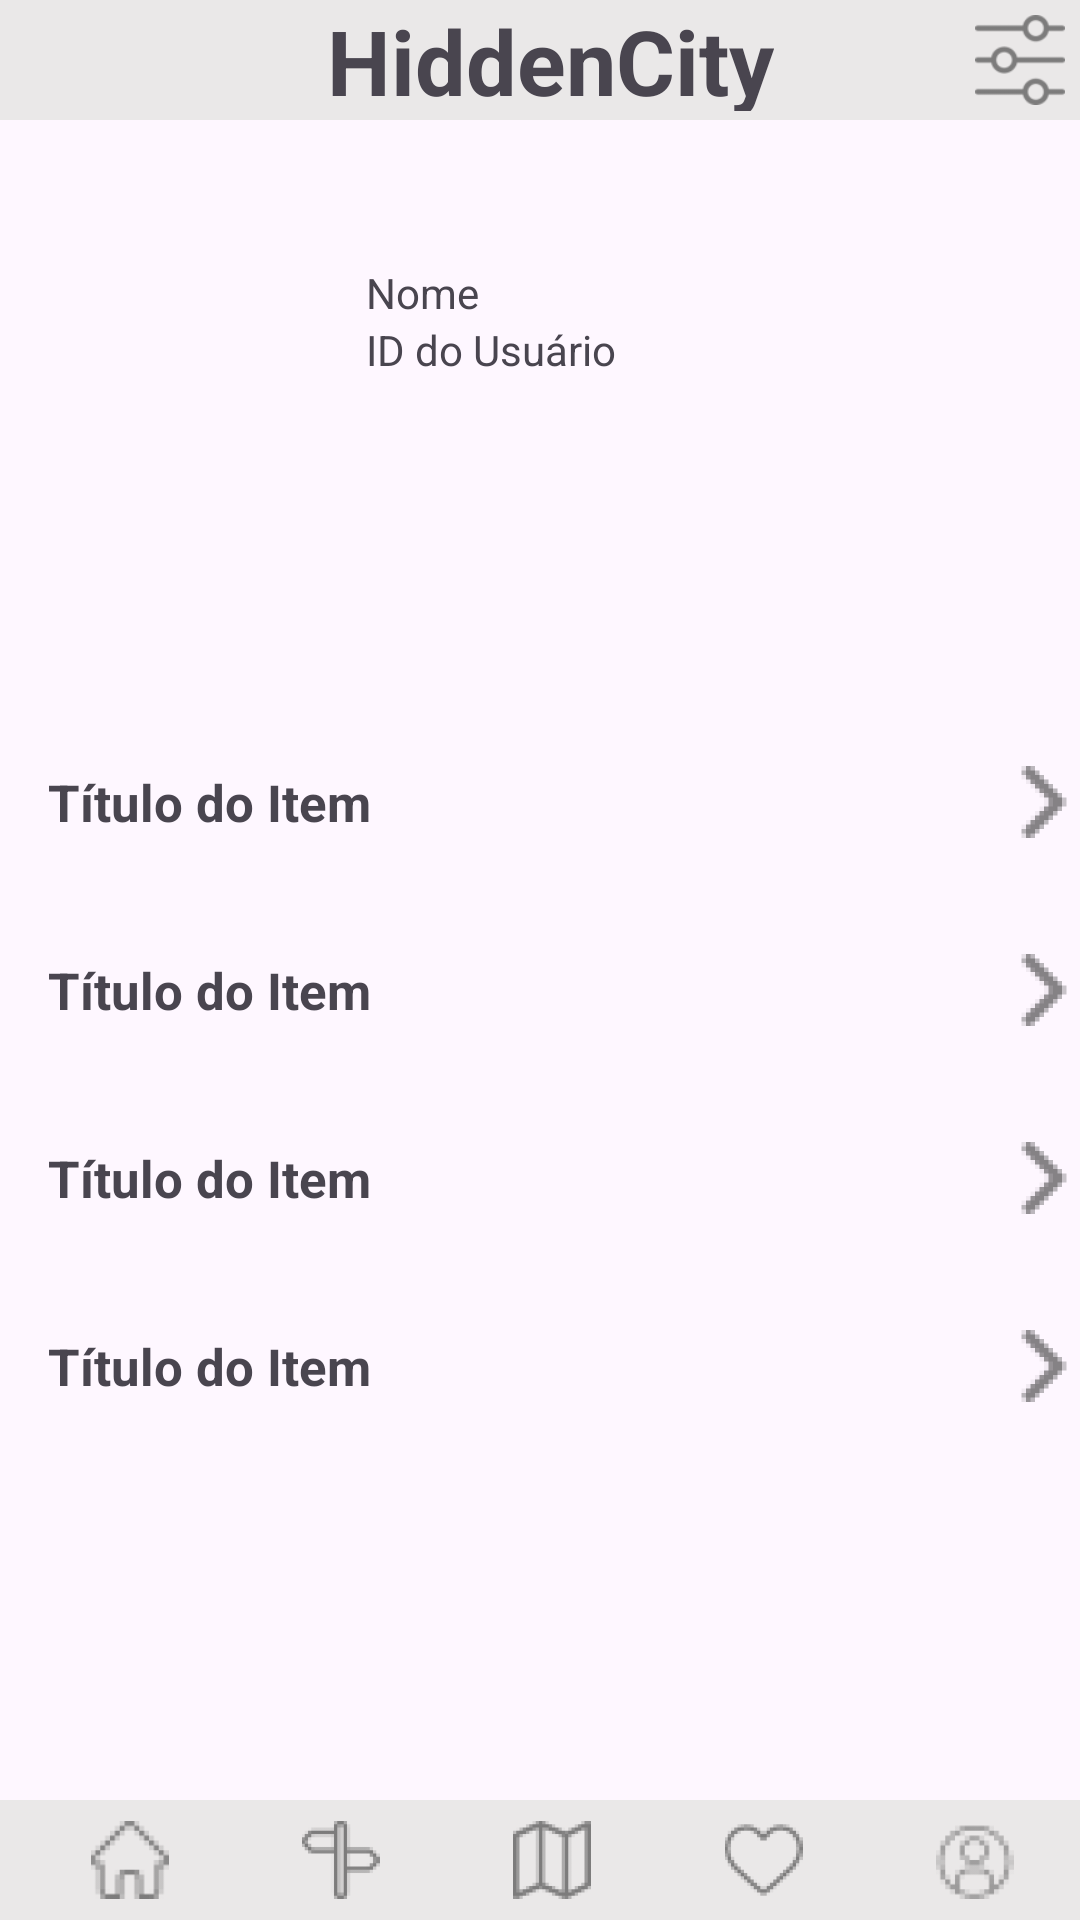

Icons on this 1080px x 1920px Android screen, each with its box as (x1, y1, x2, y2):
casa: (91, 1821, 169, 1899)
conta: (936, 1825, 1014, 1899)
definicoes: (975, 15, 1065, 105)
favoritos: (725, 1824, 803, 1896)
guia: (302, 1821, 380, 1899)
map: (513, 1821, 591, 1899)
seta direita: (1021, 766, 1067, 838), (1021, 954, 1067, 1026), (1021, 1142, 1067, 1214), (1021, 1330, 1067, 1402)
